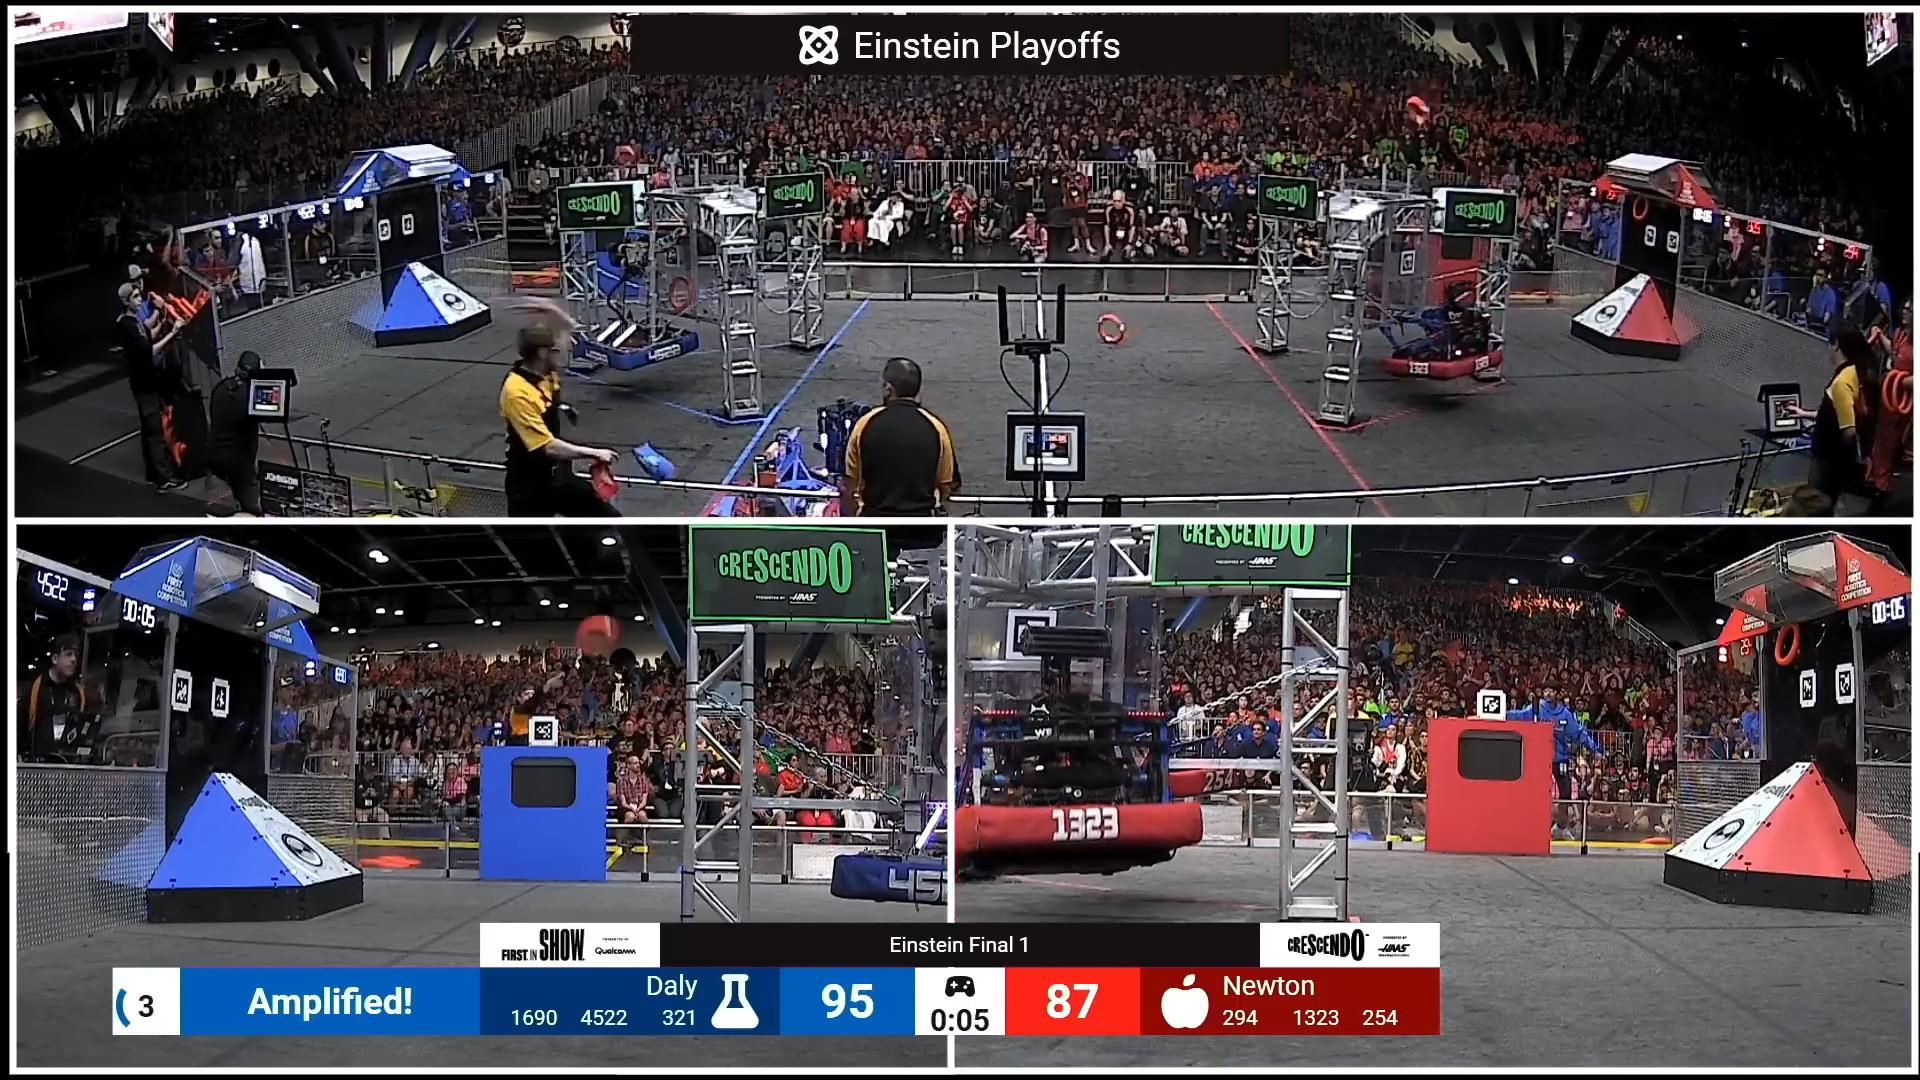blue_climbing: (562, 278, 705, 381)
red_climbing: (957, 640, 1221, 886), (1362, 274, 1520, 398)
